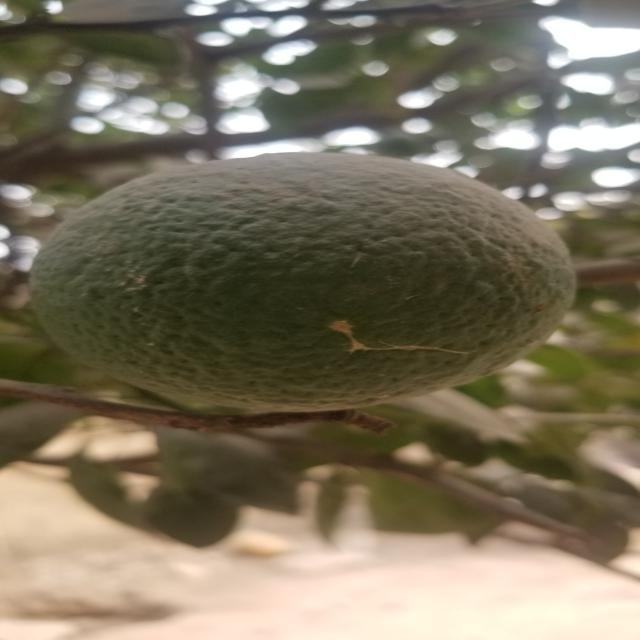agrume: (46, 157, 581, 406)
